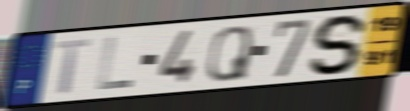4: (157, 27, 197, 87)
7: (272, 18, 312, 79)
L: (95, 36, 134, 92)
Q: (205, 24, 254, 84)
S: (308, 12, 371, 77)
T: (53, 37, 94, 96)
